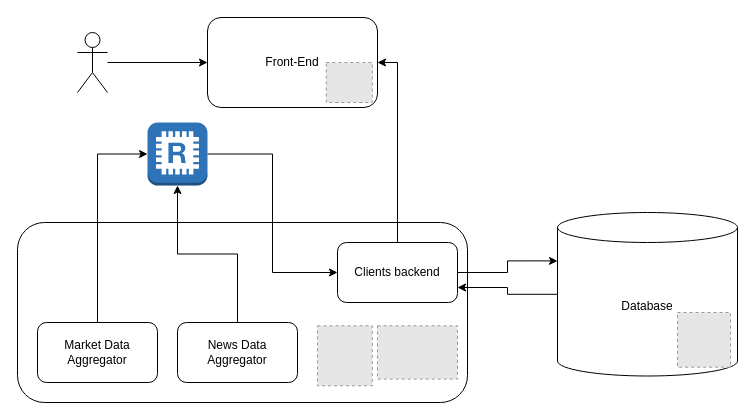
This 755x420 diagram has some shape labels left out. Grey dashed boxes stand in for pictures. Here are the shapes that lost their labels. From the top down, the centre of each, then its label:
(x=92, y=62): Actor
(x=177, y=154): Redis Message Broker
